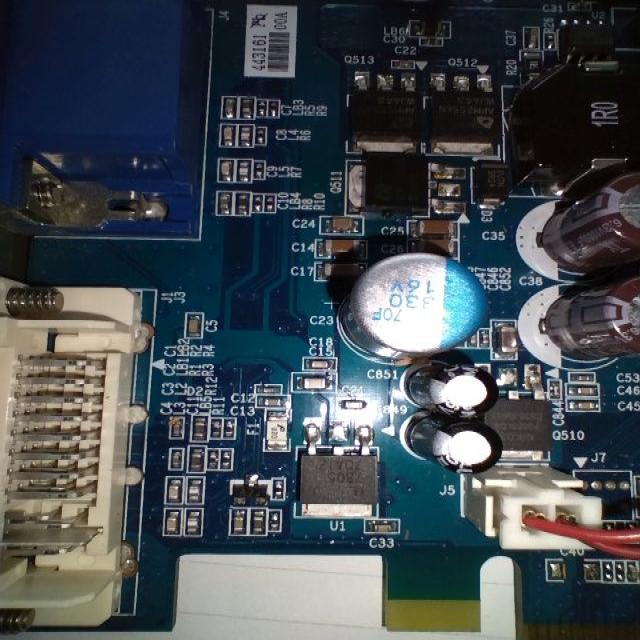capacitor: (320, 214, 367, 238), (563, 395, 604, 417), (184, 305, 206, 343), (294, 370, 332, 390), (364, 517, 402, 536), (162, 506, 182, 541), (220, 118, 238, 155), (212, 158, 238, 183), (304, 355, 340, 372), (165, 473, 183, 502)
resistor: (210, 413, 224, 445)
